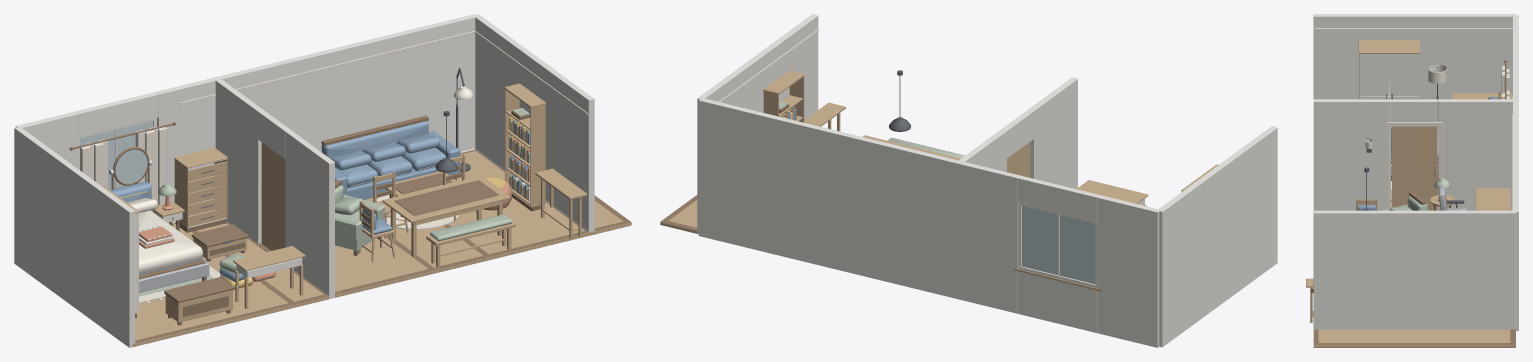
The model's file is real-home-furniture.glb.
3 views of the same model, side by side, from view 1: azimuth 30°, elevation 25°; view 2: azimuth 150°, elevation 25°; view 3: azimuth 270°, elevation 25° (orthographic). The views are drawn at different scales.
Parts seen in each view (by area): view 1: 006-flat-wall-4m/0, 005-flat-wall-4m/0, 008-flat-wall-door-4m/0, 004-flat-wall-4m/0, 007-flat-wall-4m/0, 003-flat-wall-window-4m/0, 024-sofa-three-seat/1, 002-flat-floor-4m/0, 000-flat-floor-4m/0, 001-flat-floor-4m/0, 031-bookcase-5-shelf/0, 019-curtains-linen-pair/1 (+31 smaller); view 2: 005-flat-wall-4m/0, 004-flat-wall-4m/0, 003-flat-wall-window-4m/0, 006-flat-wall-4m/0, 008-flat-wall-door-4m/0, 007-flat-wall-4m/0, 003-flat-wall-window-4m/2, 031-bookcase-5-shelf/0, 003-flat-wall-window-4m/1, 021-dressing-table/0, 032-console-table/0, 008-flat-wall-door-4m/door-leaf/oak (+1 smaller); view 3: 007-flat-wall-4m/0, 008-flat-wall-door-4m/0, 006-flat-wall-4m/0, 008-flat-wall-door-4m/door-leaf/oak, 002-flat-floor-4m/0, 017-wardrobe-2-door/door-right/carcass, 017-wardrobe-2-door/door-left/carcass, 017-wardrobe-2-door/2, 008-flat-wall-door-4m/3, 040-desk-writing/8, 002-flat-floor-4m/1, 005-flat-wall-4m/0 (+10 smaller).
Boxes of the visible parts, x1,y1,x2,y2 form: 006-flat-wall-4m/0: [14, 127, 135, 347]; 005-flat-wall-4m/0: [276, 14, 477, 151]; 008-flat-wall-door-4m/0: [215, 78, 334, 299]; 004-flat-wall-4m/0: [177, 38, 377, 156]; 007-flat-wall-4m/0: [475, 14, 594, 232]; 003-flat-wall-window-4m/0: [15, 77, 217, 222]; 024-sofa-three-seat/1: [321, 121, 460, 199]; 002-flat-floor-4m/0: [364, 151, 631, 270]; 000-flat-floor-4m/0: [132, 223, 329, 346]; 001-flat-floor-4m/0: [204, 196, 491, 306]; 031-bookcase-5-shelf/0: [504, 83, 546, 207]; 019-curtains-linen-pair/1: [80, 126, 167, 211]; 005-flat-wall-4m/0: [698, 98, 900, 284]; 004-flat-wall-4m/0: [798, 122, 998, 305]; 003-flat-wall-window-4m/0: [958, 161, 1160, 347]; 006-flat-wall-4m/0: [1157, 126, 1277, 347]; 008-flat-wall-door-4m/0: [958, 77, 1077, 188]; 007-flat-wall-4m/0: [697, 14, 818, 234]; 003-flat-wall-window-4m/2: [1022, 205, 1095, 284]; 031-bookcase-5-shelf/0: [763, 70, 804, 122]; 003-flat-wall-window-4m/1: [1018, 201, 1097, 288]; 021-dressing-table/0: [1076, 180, 1148, 205]; 032-console-table/0: [804, 102, 845, 131]; 008-flat-wall-door-4m/door-leaf/oak: [1007, 142, 1030, 177]; 007-flat-wall-4m/0: [1313, 210, 1515, 329]; 008-flat-wall-door-4m/0: [1313, 99, 1512, 210]; 006-flat-wall-4m/0: [1313, 14, 1515, 99]; 008-flat-wall-door-4m/door-leaf/oak: [1392, 126, 1437, 210]; 002-flat-floor-4m/0: [1313, 329, 1515, 347]; 017-wardrobe-2-door/door-right/carcass: [1389, 54, 1418, 127]; 017-wardrobe-2-door/door-left/carcass: [1360, 54, 1389, 99]; 017-wardrobe-2-door/2: [1358, 40, 1420, 53]; 008-flat-wall-door-4m/3: [1386, 122, 1443, 210]; 040-desk-writing/8: [1475, 188, 1510, 210]; 002-flat-floor-4m/1: [1313, 329, 1515, 345]; 005-flat-wall-4m/0: [1513, 126, 1518, 330].
Size of the model in its own units: 10.06 by 2.6 by 4.21.
